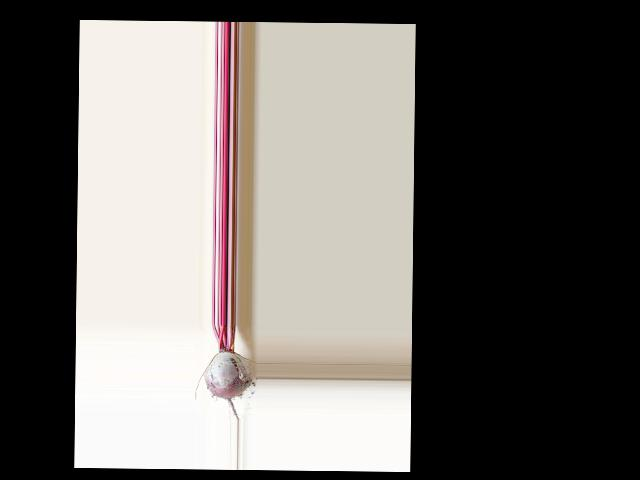beet: (195, 324, 251, 420)
